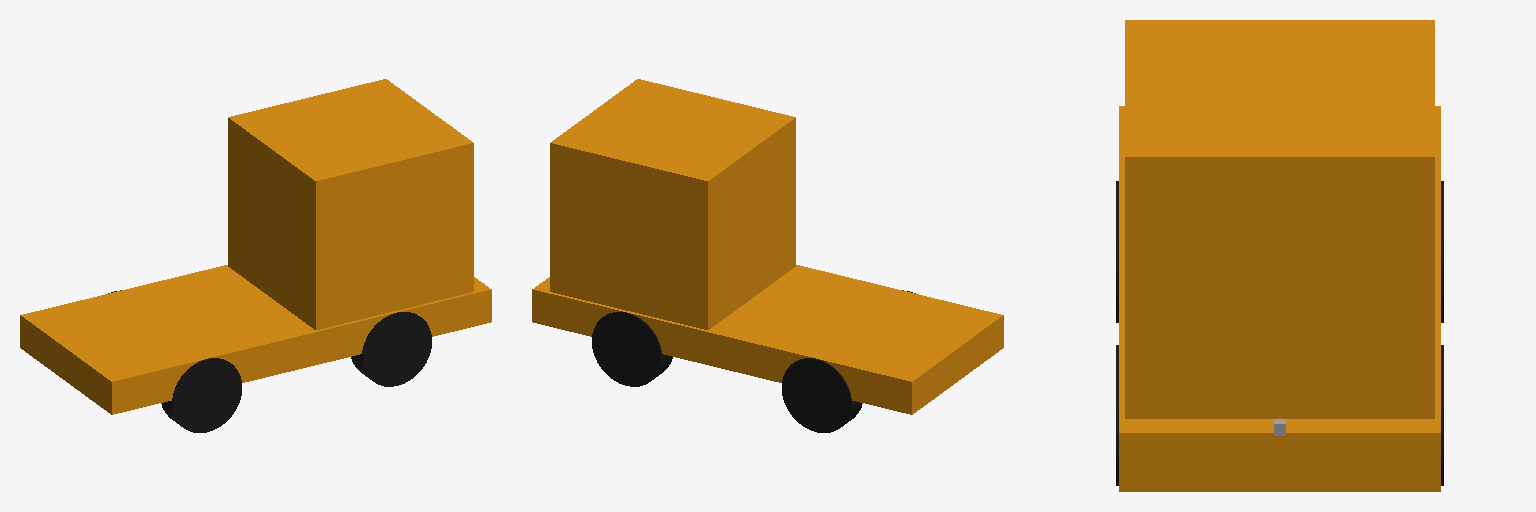
URDF robot description (agv_ackermann):
<?xml version="1.0"?>
<!--
  agv_ackermann.urdf — RViz visualization model (standalone URDF tree)
  =====================================================================
  This URDF is consumed by robot_state_publisher, which:
    1. Publishes /robot_description (for RViz RobotModel display)
    2. Publishes TF for the entire robot tree from joint_states

  TF chain:  odom -> chassis -> {steering_links -> wheels, rear_wheels}
  The odom -> chassis transform comes from a separate odom_tf_publisher
  node that converts /agv/odometry into a TF broadcast.

  Coordinate convention (ROS standard, X-forward):
    X = forward (vehicle driving direction)
    Y = left
    Z = up

  Steering joints: revolute around Z (yaw steering)
  Wheel spin joints: continuous around Y (lateral axle = rolling axis)

  Wheel visual: cylinder with axis Z, rotated +90° around X in <origin>
  so the cylinder lies flat with its axis along Y.

  Geometry (matches model.sdf):
    Wheelbase:     3.0 m (front +1.5, rear -1.5)
    Track width:   2.2 m (wheel centers at y = ±1.1)
    Wheel radius:  0.55 m
    Wheel width:   0.35 m
    Chassis body:  6.0 × 2.5 × 0.5 m, center at z=0.30 above base
    Cab:           2.5 × 2.4 × 2.5 m, at x=+1.5, z=1.55 above base
    Steering pivots: (±1.5, ±0.9, 0.05)
    Base_link (chassis) origin: at ground level between axles (z=0)

  NOTE: This URDF places chassis origin at wheel axle / ground height (z=0).
  The SDF has chassis at z=0.85, but that's because SDF link poses are
  in model frame. Here, URDF joints define the tree from chassis outward.
-->
<robot name="agv_ackermann">

  <!-- ════════════════════════════════════════════════════════════════
       CHASSIS (base_link)
       Origin at ground level, centered between axles.
       Body frame visual is raised so its bottom sits at axle height.
       ════════════════════════════════════════════════════════════════ -->
  <link name="chassis">
    <inertial>
      <mass value="10000"/>
      <origin xyz="0 0 0.85"/>
      <inertia ixx="4500" ixy="0" ixz="0" iyy="20000" iyz="0" izz="23000"/>
    </inertial>

    <!-- Body frame: bottom at z≈0.05 (just above wheels), center at z=0.30 -->
    <visual name="visual_body_frame">
      <origin xyz="0 0 0.30" rpy="0 0 0"/>
      <geometry>
        <box size="6.0 2.5 0.5"/>
      </geometry>
      <material name="agv_yellow">
        <color rgba="0.9 0.6 0.1 1"/>
      </material>
    </visual>

    <!-- Cab on top of body frame, front of vehicle -->
    <visual name="visual_cab">
      <origin xyz="1.5 0 1.55" rpy="0 0 0"/>
      <geometry>
        <box size="2.5 2.4 2.5"/>
      </geometry>
      <material name="agv_yellow">
        <color rgba="0.9 0.6 0.1 1"/>
      </material>
    </visual>

    <collision name="collision_body">
      <origin xyz="0 0 0.30" rpy="0 0 0"/>
      <geometry>
        <box size="6.0 2.5 0.5"/>
      </geometry>
    </collision>
  </link>

  <!-- ════════════════════════════════════════════════════════════════
       FRONT LEFT STEERING LINK + JOINT
       Steering joint: revolute around Z (yaw)
       Position: front axle, left side, at wheel center height
       ════════════════════════════════════════════════════════════════ -->
  <link name="front_left_wheel_steering_link">
    <inertial>
      <mass value="1.0"/>
      <inertia ixx="0.05" ixy="0" ixz="0" iyy="0.05" iyz="0" izz="0.05"/>
    </inertial>
    <visual name="visual_steering_pivot_fl">
      <origin xyz="0 0 0.15" rpy="0 0 0"/>
      <geometry>
        <cylinder radius="0.04" length="0.30"/>
      </geometry>
      <material name="steer_red">
        <color rgba="1.0 0.2 0.2 1"/>
      </material>
    </visual>
  </link>

  <joint name="front_left_wheel_steering_joint" type="revolute">
    <parent link="chassis"/>
    <child link="front_left_wheel_steering_link"/>
    <origin xyz="1.5 0.9 0.0" rpy="0 0 0"/>
    <axis xyz="0 0 1"/>
    <limit lower="-0.6" upper="0.6" velocity="1.0" effort="5000"/>
  </joint>

  <!-- ════════════════════════════════════════════════════════════════
       FRONT RIGHT STEERING LINK + JOINT
       ════════════════════════════════════════════════════════════════ -->
  <link name="front_right_wheel_steering_link">
    <inertial>
      <mass value="1.0"/>
      <inertia ixx="0.05" ixy="0" ixz="0" iyy="0.05" iyz="0" izz="0.05"/>
    </inertial>
    <visual name="visual_steering_pivot_fr">
      <origin xyz="0 0 0.15" rpy="0 0 0"/>
      <geometry>
        <cylinder radius="0.04" length="0.30"/>
      </geometry>
      <material name="steer_red">
        <color rgba="1.0 0.2 0.2 1"/>
      </material>
    </visual>
  </link>

  <joint name="front_right_wheel_steering_joint" type="revolute">
    <parent link="chassis"/>
    <child link="front_right_wheel_steering_link"/>
    <origin xyz="1.5 -0.9 0.0" rpy="0 0 0"/>
    <axis xyz="0 0 1"/>
    <limit lower="-0.6" upper="0.6" velocity="1.0" effort="5000"/>
  </joint>

  <!-- ════════════════════════════════════════════════════════════════
       FRONT LEFT WHEEL
       Spin joint: continuous around Y (axle direction)
       Cylinder visual: rotated +90° around X so axis lies along Y.
       ════════════════════════════════════════════════════════════════ -->
  <link name="front_left_wheel">
    <inertial>
      <mass value="150"/>
      <inertia ixx="12.9" ixy="0" ixz="0" iyy="22.7" iyz="0" izz="12.9"/>
    </inertial>
    <visual name="visual_fl_wheel">
      <origin xyz="0 0 0" rpy="1.5707963 0 0"/>
      <geometry>
        <cylinder radius="0.55" length="0.35"/>
      </geometry>
      <material name="tire_black">
        <color rgba="0.15 0.15 0.15 1"/>
      </material>
    </visual>
  </link>

  <joint name="front_left_wheel_joint" type="continuous">
    <parent link="front_left_wheel_steering_link"/>
    <child link="front_left_wheel"/>
    <origin xyz="0 0.2 0" rpy="0 0 0"/>
    <axis xyz="0 1 0"/>
  </joint>

  <!-- ════════════════════════════════════════════════════════════════
       FRONT RIGHT WHEEL
       ════════════════════════════════════════════════════════════════ -->
  <link name="front_right_wheel">
    <inertial>
      <mass value="150"/>
      <inertia ixx="12.9" ixy="0" ixz="0" iyy="22.7" iyz="0" izz="12.9"/>
    </inertial>
    <visual name="visual_fr_wheel">
      <origin xyz="0 0 0" rpy="1.5707963 0 0"/>
      <geometry>
        <cylinder radius="0.55" length="0.35"/>
      </geometry>
      <material name="tire_black">
        <color rgba="0.15 0.15 0.15 1"/>
      </material>
    </visual>
  </link>

  <joint name="front_right_wheel_joint" type="continuous">
    <parent link="front_right_wheel_steering_link"/>
    <child link="front_right_wheel"/>
    <origin xyz="0 -0.2 0" rpy="0 0 0"/>
    <axis xyz="0 1 0"/>
  </joint>

  <!-- ════════════════════════════════════════════════════════════════
       REAR LEFT WHEEL (drive wheel, no steering link)
       ════════════════════════════════════════════════════════════════ -->
  <link name="rear_left_wheel">
    <inertial>
      <mass value="150"/>
      <inertia ixx="12.9" ixy="0" ixz="0" iyy="22.7" iyz="0" izz="12.9"/>
    </inertial>
    <visual name="visual_rl_wheel">
      <origin xyz="0 0 0" rpy="1.5707963 0 0"/>
      <geometry>
        <cylinder radius="0.55" length="0.35"/>
      </geometry>
      <material name="tire_black">
        <color rgba="0.15 0.15 0.15 1"/>
      </material>
    </visual>
  </link>

  <joint name="rear_left_wheel_joint" type="continuous">
    <parent link="chassis"/>
    <child link="rear_left_wheel"/>
    <origin xyz="-1.5 1.1 0" rpy="0 0 0"/>
    <axis xyz="0 1 0"/>
  </joint>

  <!-- ════════════════════════════════════════════════════════════════
       REAR RIGHT WHEEL (drive wheel, no steering link)
       ════════════════════════════════════════════════════════════════ -->
  <link name="rear_right_wheel">
    <inertial>
      <mass value="150"/>
      <inertia ixx="12.9" ixy="0" ixz="0" iyy="22.7" iyz="0" izz="12.9"/>
    </inertial>
    <visual name="visual_rr_wheel">
      <origin xyz="0 0 0" rpy="1.5707963 0 0"/>
      <geometry>
        <cylinder radius="0.55" length="0.35"/>
      </geometry>
      <material name="tire_black">
        <color rgba="0.15 0.15 0.15 1"/>
      </material>
    </visual>
  </link>

  <joint name="rear_right_wheel_joint" type="continuous">
    <parent link="chassis"/>
    <child link="rear_right_wheel"/>
    <origin xyz="-1.5 -1.1 0" rpy="0 0 0"/>
    <axis xyz="0 1 0"/>
  </joint>

  <!-- ════════════════════════════════════════════════════════════════
       LIDAR LINK (front-mounted 2D LiDAR)
       SDF pose: (3.0, 0, 0.6) in model frame — front bumper, body-top.
       URDF origin: relative to chassis (at model origin z=0).
       ════════════════════════════════════════════════════════════════ -->
  <link name="lidar_link">
    <inertial>
      <mass value="0.1"/>
      <inertia ixx="0.000166667" ixy="0" ixz="0" iyy="0.000166667" iyz="0" izz="0.000166667"/>
    </inertial>
    <visual name="visual">
      <geometry>
        <box size="0.1 0.1 0.1"/>
      </geometry>
    </visual>
  </link>

  <joint name="lidar_joint" type="fixed">
    <parent link="chassis"/>
    <child link="lidar_link"/>
    <origin xyz="3.0 0 0.6" rpy="0 0 0"/>
  </joint>

</robot>

--- What the picture shows (computed from the rendered views, not written in the file) ---
3 views of the same robot in one strip: view 1: azimuth 30°, elevation 25°; view 2: azimuth 150°, elevation 25°; view 3: azimuth 270°, elevation 25° (orthographic).
Model agv_ackermann with 8 links and 7 joints (2 revolute, 4 continuous, 1 fixed), rooted at chassis, posed every joint at zero.
Visible links, largest first — view 1: chassis, front_right_wheel, rear_right_wheel; view 2: chassis, front_left_wheel, rear_left_wheel; view 3: chassis.
Link boxes in pixels (box(x1,y1,x2,y2)): chassis: box(20, 79, 491, 414); front_right_wheel: box(351, 312, 431, 386); rear_right_wheel: box(161, 358, 241, 432); chassis: box(532, 79, 1003, 414); front_left_wheel: box(592, 312, 672, 386); rear_left_wheel: box(782, 358, 862, 432); chassis: box(1119, 20, 1440, 491).
Bounding box of the posed robot: 6.05 × 2.55 × 3.35 m (x, y, z).
Geometry: primitives only (box / cylinder / sphere), no mesh files.
